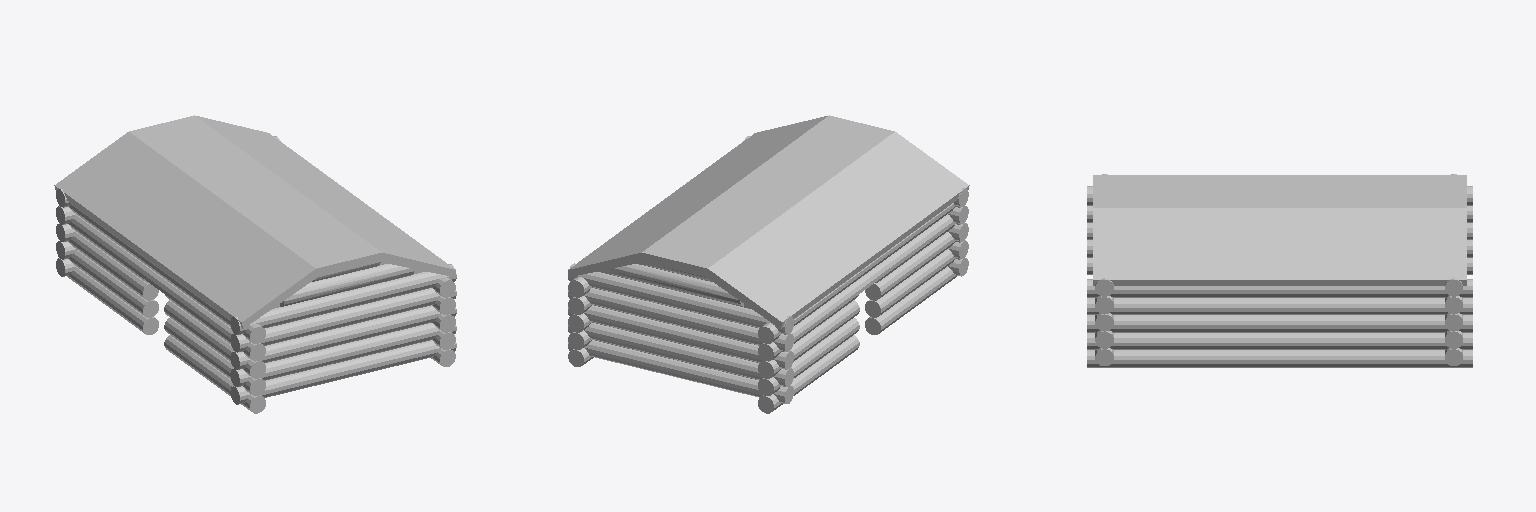
The model's file is Log Cabin.obj.
3 renders of one model, left to right at view 1: azimuth 30°, elevation 25°; view 2: azimuth 150°, elevation 25°; view 3: azimuth 270°, elevation 25°, orthographic.
Visible parts, largest first — view 1: Cabin_body_Cylinder.008; view 2: Cabin_body_Cylinder.008; view 3: Cabin_body_Cylinder.008.
Part boxes in pixels (x1,y1,x2,y2): Cabin_body_Cylinder.008: (54, 115, 456, 413); Cabin_body_Cylinder.008: (568, 115, 969, 413); Cabin_body_Cylinder.008: (1087, 174, 1472, 367).
Size of the model in its own units: 5.72 by 3.23 by 8.8.